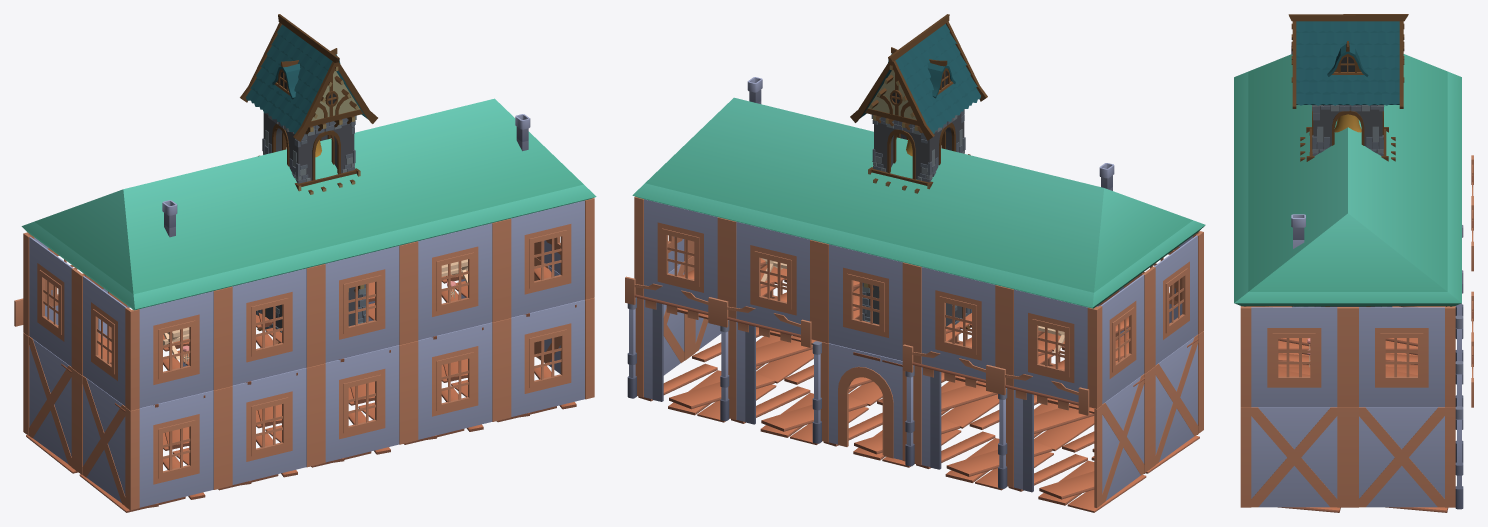
The model's file is london_bld_town_hall.glb.
The picture shows the model from 3 angles, left to right: view 1: azimuth 30°, elevation 25°; view 2: azimuth 150°, elevation 25°; view 3: azimuth 270°, elevation 25°; orthographic projection.
Visible parts, largest first — view 1: wall-window-shutters (×13), roof-gable (×3), roof-gable-end (×2), Bell_Tower, wall-detail-cross (×3), platform-planks; view 2: wall-window-shutters (×9), roof-gable (×3), roof-gable-end (×2), platform-planks (×10), wall-detail-cross (×4), Bell_Tower, wall-arch (×4), wall-door, balcony-wall-fence (×4), pillar-stone (×5); view 3: roof-gable (×3), roof-gable-end (×2), wall-detail-cross (×2), wall-window-shutters (×5), Bell_Tower, platform-planks (×4), pillar-stone (×3), wall-arch, chimney-top.
Boxes of the visible parts, x1=… form: wall-window-shutters (×13): x1=23, y1=198, x2=594, y2=510; roof-gable (×3): x1=170, y1=110, x2=504, y2=288; roof-gable-end (×2): x1=21, y1=98, x2=596, y2=310; Bell_Tower: x1=240, y1=14, x2=377, y2=343; wall-detail-cross (×3): x1=23, y1=259, x2=594, y2=510; platform-planks: x1=79, y1=456, x2=205, y2=512; wall-window-shutters (×9): x1=634, y1=196, x2=1203, y2=408; roof-gable (×3): x1=723, y1=109, x2=1057, y2=286; roof-gable-end (×2): x1=632, y1=97, x2=1205, y2=308; platform-planks (×10): x1=638, y1=327, x2=1199, y2=512; wall-detail-cross (×4): x1=635, y1=256, x2=1202, y2=507; Bell_Tower: x1=850, y1=14, x2=987, y2=341; wall-arch (×4): x1=635, y1=298, x2=1033, y2=492; wall-door: x1=820, y1=341, x2=906, y2=461; balcony-wall-fence (×4): x1=625, y1=276, x2=1089, y2=415; pillar-stone (×5): x1=627, y1=297, x2=1007, y2=488; roof-gable (×3): x1=1234, y1=87, x2=1461, y2=258; roof-gable-end (×2): x1=1234, y1=54, x2=1461, y2=306; wall-detail-cross (×2): x1=1240, y1=407, x2=1455, y2=507; wall-window-shutters (×5): x1=1240, y1=306, x2=1455, y2=507; Bell_Tower: x1=1288, y1=14, x2=1408, y2=307; platform-planks (×4): x1=1278, y1=338, x2=1417, y2=376; pillar-stone (×3): x1=1455, y1=315, x2=1463, y2=509; wall-arch: x1=1452, y1=407, x2=1455, y2=507; chimney-top: x1=1291, y1=214, x2=1305, y2=239.
Size of the model in its own units: 25.18 by 19.75 by 11.15.
24 materials, 11 textured.
